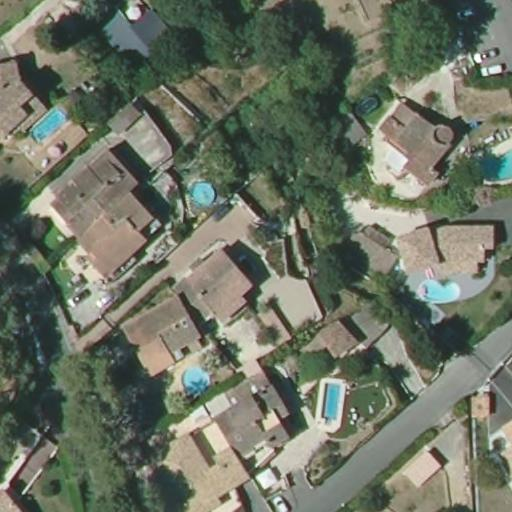pool: (312, 374, 347, 430), (26, 106, 69, 145), (478, 146, 511, 189), (176, 362, 215, 396), (418, 278, 461, 301), (185, 178, 221, 204)
